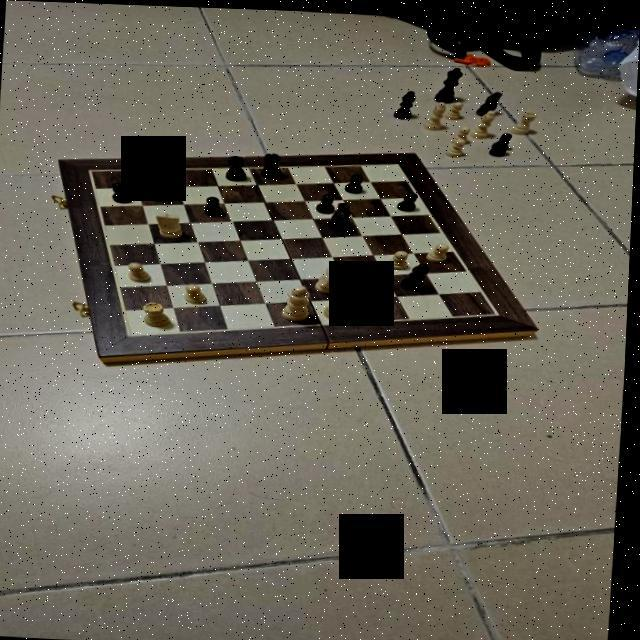chess-table-corners: (126, 329, 140, 336), (493, 306, 505, 314), (394, 158, 405, 164), (86, 167, 96, 172)
